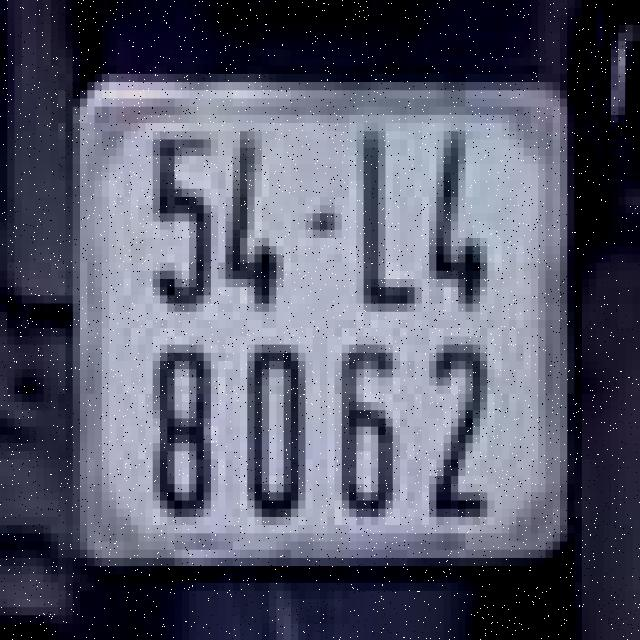0: (232, 337, 312, 525)
2: (426, 337, 506, 525)
4: (429, 123, 502, 304), (225, 119, 291, 316)
5: (149, 123, 222, 320)
6: (324, 336, 411, 534)
8: (138, 337, 226, 525)
L: (353, 123, 425, 320)
